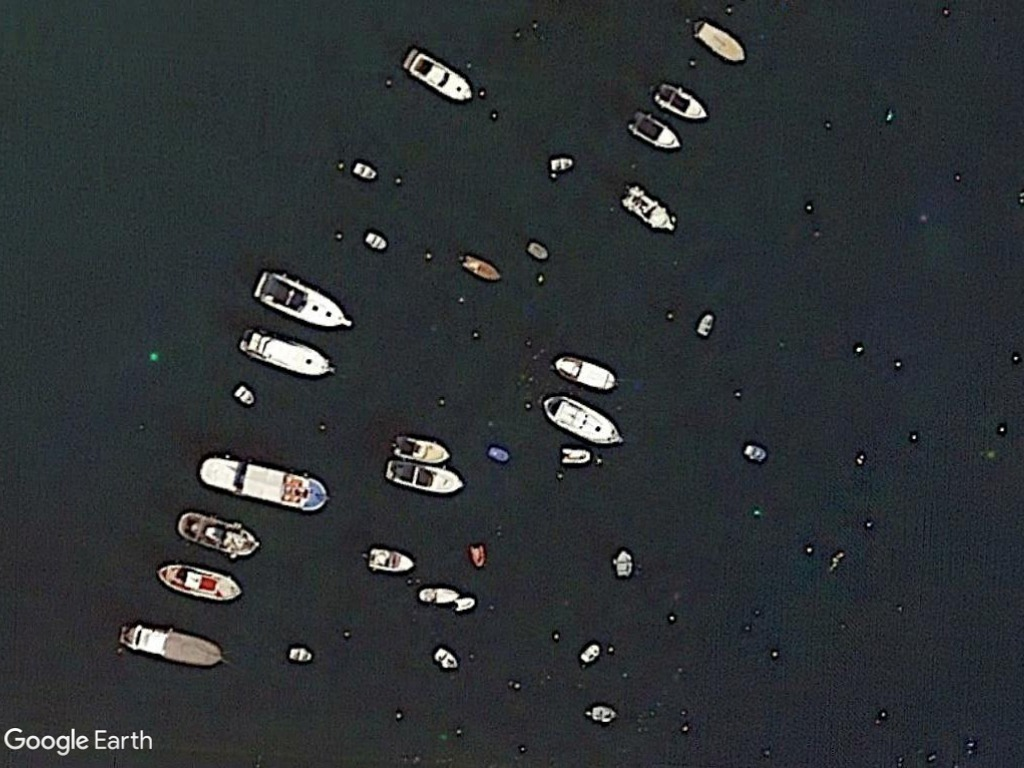boat: (196, 453, 332, 518), (251, 263, 357, 335), (234, 323, 340, 383), (117, 618, 234, 672), (536, 389, 628, 448), (173, 506, 262, 562), (152, 557, 245, 607), (402, 45, 475, 106), (382, 455, 469, 502), (618, 181, 681, 234), (690, 16, 754, 67), (549, 351, 622, 393), (625, 106, 684, 154), (651, 78, 710, 123), (390, 427, 454, 466)
